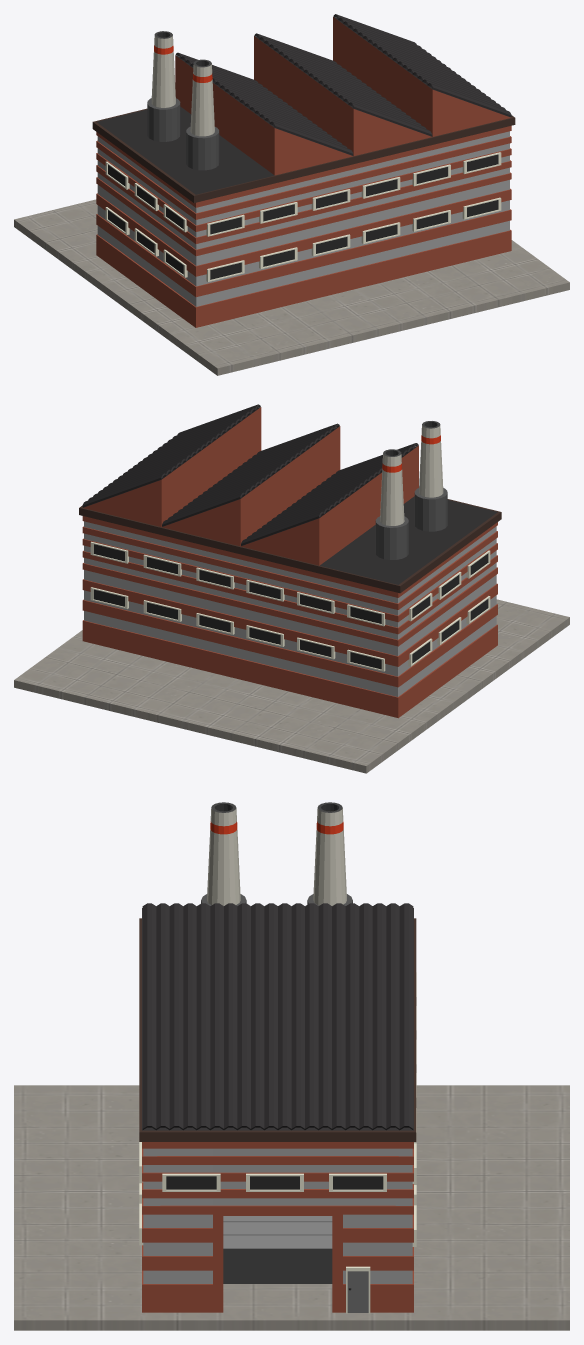
File: Factory_01.fbx
The picture shows the model from 3 angles, top to bottom: view 1: azimuth 30°, elevation 25°; view 2: azimuth 150°, elevation 25°; view 3: azimuth 270°, elevation 25°; orthographic projection. The views are drawn at different scales.
Parts seen in each view (by area): view 1: Factory_01; view 2: Factory_01; view 3: Factory_01.
Boxes of the visible parts, x1=… form: Factory_01: x1=14, y1=14, x2=569, y2=375; Factory_01: x1=14, y1=404, x2=569, y2=773; Factory_01: x1=14, y1=802, x2=569, y2=1330.
Size of the model in its own units: 3017 by 1972 by 3017.
